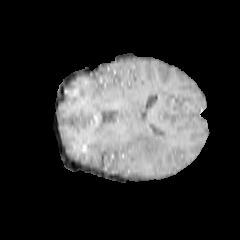glioma: (121, 130, 168, 160)
